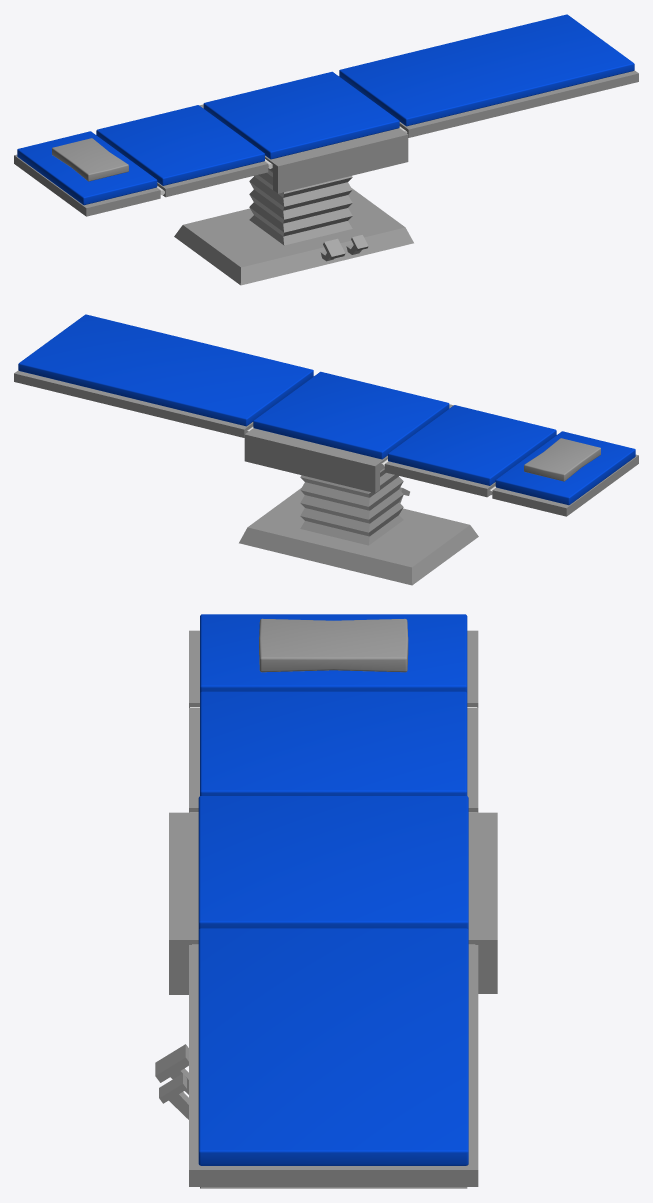
File: Operating table.fbx
3 renders of one model, top to bottom at view 1: azimuth 30°, elevation 25°; view 2: azimuth 150°, elevation 25°; view 3: azimuth 270°, elevation 25°, orthographic. The views are drawn at different scales.
Parts seen in each view (by area): view 1: Cube.006, Cube, Cube.003, Cube.004, Cube.001, Cube.008, Cube.005, Cube.009, Cube.007, Cube.002; view 2: Cube.006, Cube, Cube.003, Cube.004, Cube.001, Cube.008, Cube.005, Cube.009, Cube.007, Cube.002; view 3: Cube.006, Cube.003, Cube.004, Cube.008, Cube.005, Cube.001, Cube.009, Cube.002, Cube.007.
Boxes of the visible parts, x1,y1,x2,y2 form: Cube.006: (339,14,634,126); Cube: (174,168,413,285); Cube.003: (203,71,399,159); Cube.004: (96,105,264,185); Cube.001: (199,104,408,193); Cube.008: (17,131,157,205); Cube.005: (339,70,638,137); Cube.009: (52,138,128,181); Cube.007: (14,154,160,216); Cube.002: (157,161,268,197); Cube.006: (18,314,313,426); Cube: (239,468,478,585); Cube.003: (253,371,449,459); Cube.004: (388,405,556,485); Cube.001: (244,404,453,492); Cube.008: (495,431,635,505); Cube.005: (14,370,313,437); Cube.009: (524,438,600,481); Cube.007: (492,454,638,516); Cube.002: (384,461,495,497); Cube.006: (198,928,468,1165); Cube.003: (198,796,468,929); Cube.004: (200,691,467,795); Cube.008: (200,614,467,692); Cube.005: (189,945,478,1186); Cube.001: (169,812,497,994); Cube.009: (259,618,408,672); Cube.002: (189,708,478,812); Cube.007: (189,630,478,707).
Bounding box in the file's own units: 346 × 79.95 × 92.83.
